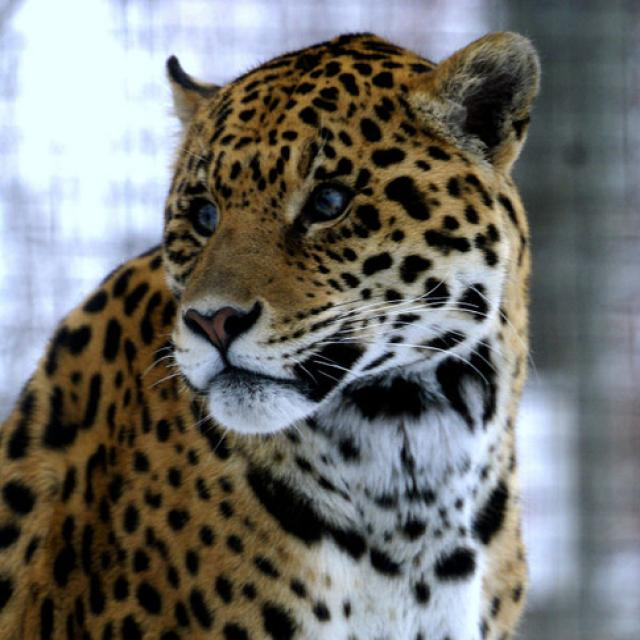Leopard: (0, 25, 542, 636)
